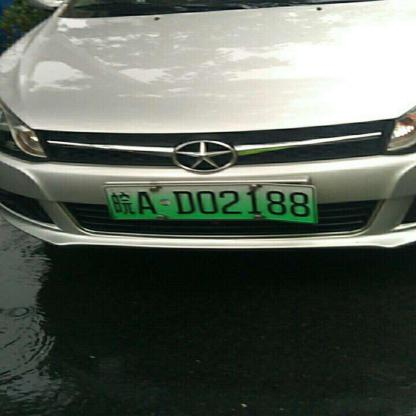lp: (104, 186, 314, 222)
